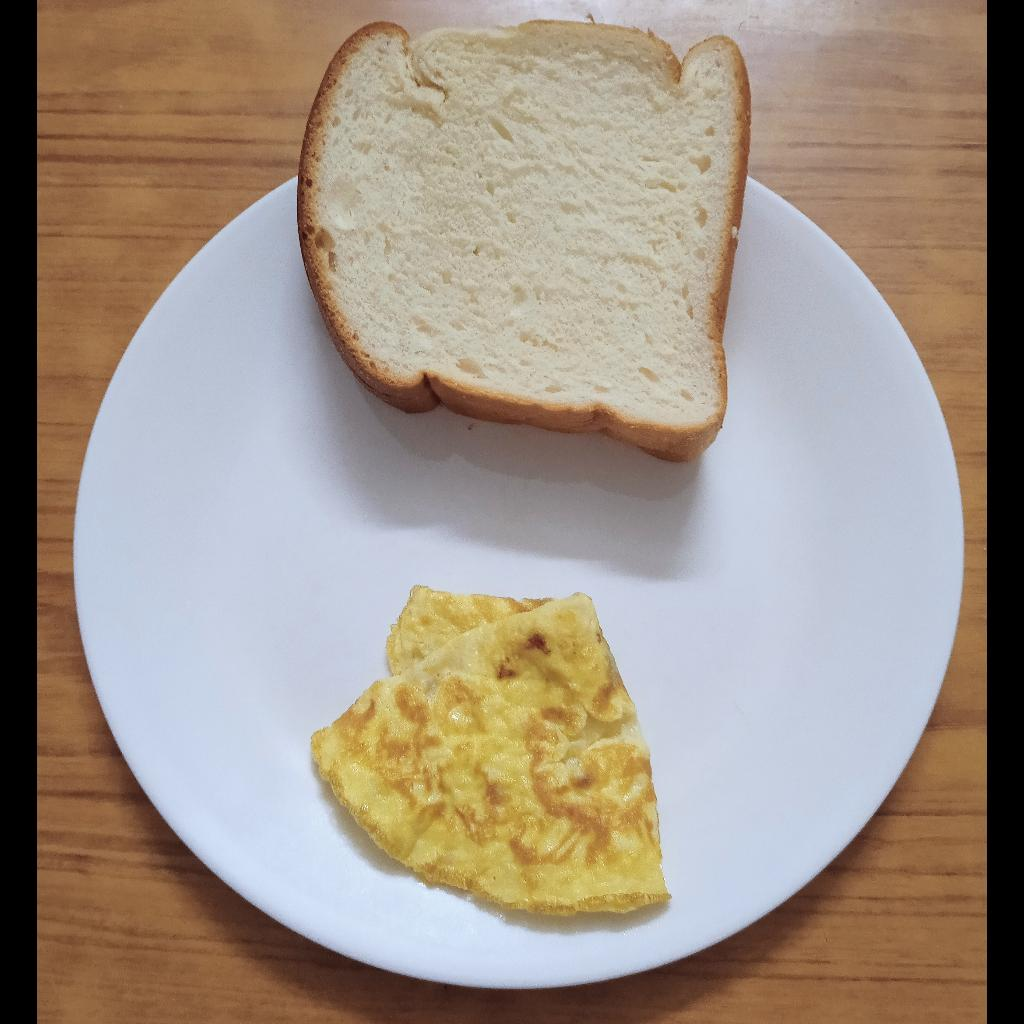bread: (296, 20, 750, 464)
egg-poached: (311, 582, 674, 917)
